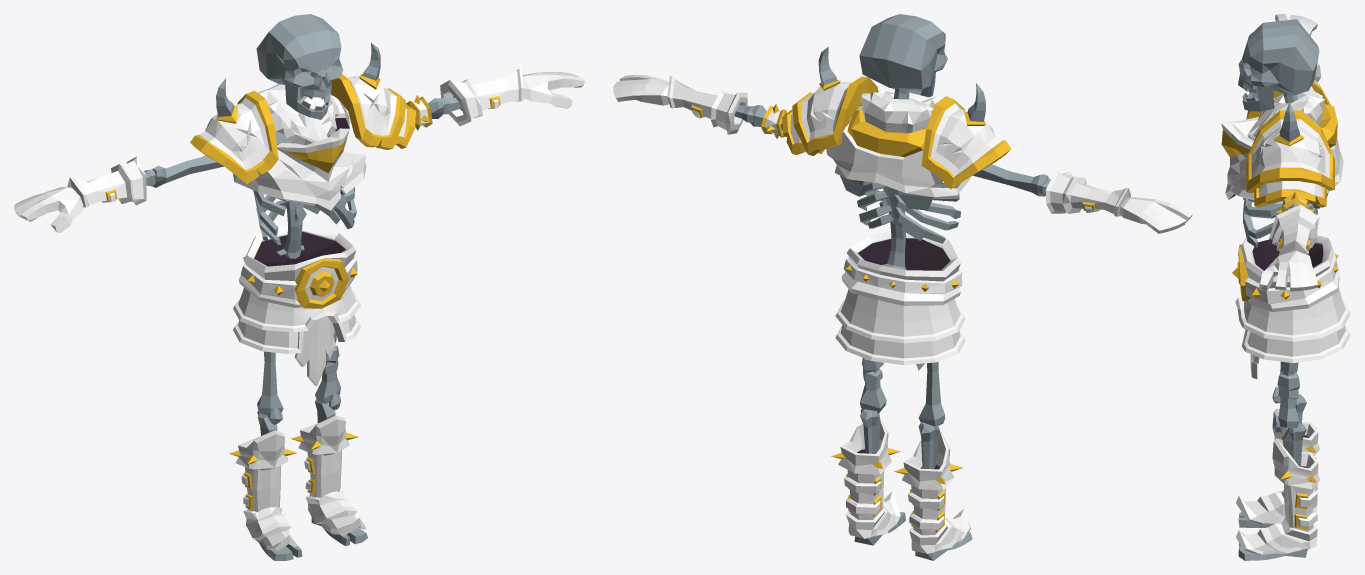
File: skeletonWarriorParts.fbx
The picture shows the model from 3 angles, left to right: view 1: azimuth 30°, elevation 25°; view 2: azimuth 150°, elevation 25°; view 3: azimuth 270°, elevation 25°; orthographic projection.
Visible parts, largest first — view 1: GoldBlack_skeleton_base.006, GoldBlack_skeleton_base.005, GoldBlack_skeleton_base.002, GoldBlack_skeleton_base.003, GoldBlack_skeleton_base.004; view 2: GoldBlack_skeleton_base.006, GoldBlack_skeleton_base.005, GoldBlack_skeleton_base.002, GoldBlack_skeleton_base.003, GoldBlack_skeleton_base.004; view 3: GoldBlack_skeleton_base.006, GoldBlack_skeleton_base.005, GoldBlack_skeleton_base.002, GoldBlack_skeleton_base.004, GoldBlack_skeleton_base.003.
Part boxes in pixels (<box>): GoldBlack_skeleton_base.006: <box>229,224,367,560</box>; GoldBlack_skeleton_base.005: <box>190,43,415,244</box>; GoldBlack_skeleton_base.002: <box>256,14,343,119</box>; GoldBlack_skeleton_base.003: <box>14,155,223,232</box>; GoldBlack_skeleton_base.004: <box>406,67,584,130</box>; GoldBlack_skeleton_base.006: <box>831,230,972,560</box>; GoldBlack_skeleton_base.005: <box>782,46,1011,243</box>; GoldBlack_skeleton_base.002: <box>859,14,947,97</box>; GoldBlack_skeleton_base.003: <box>973,164,1192,233</box>; GoldBlack_skeleton_base.004: <box>613,74,786,138</box>; GoldBlack_skeleton_base.006: <box>1232,233,1350,560</box>; GoldBlack_skeleton_base.005: <box>1221,80,1343,247</box>; GoldBlack_skeleton_base.002: <box>1238,19,1319,111</box>; GoldBlack_skeleton_base.004: <box>1259,192,1319,291</box>; GoldBlack_skeleton_base.003: <box>1275,14,1321,82</box>.
Size of the model in its own units: 880 by 772 by 177.
